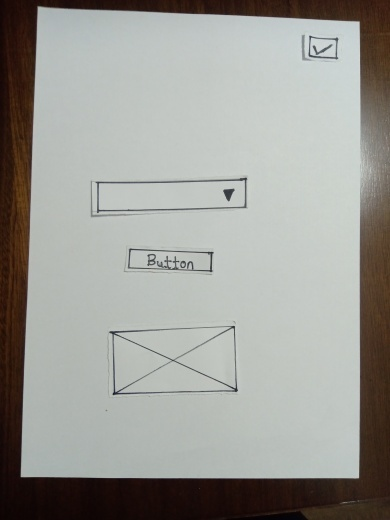button: (128, 248, 216, 273)
checkbox: (303, 35, 342, 58)
dropdown: (94, 182, 246, 207)
img: (110, 329, 236, 393)
